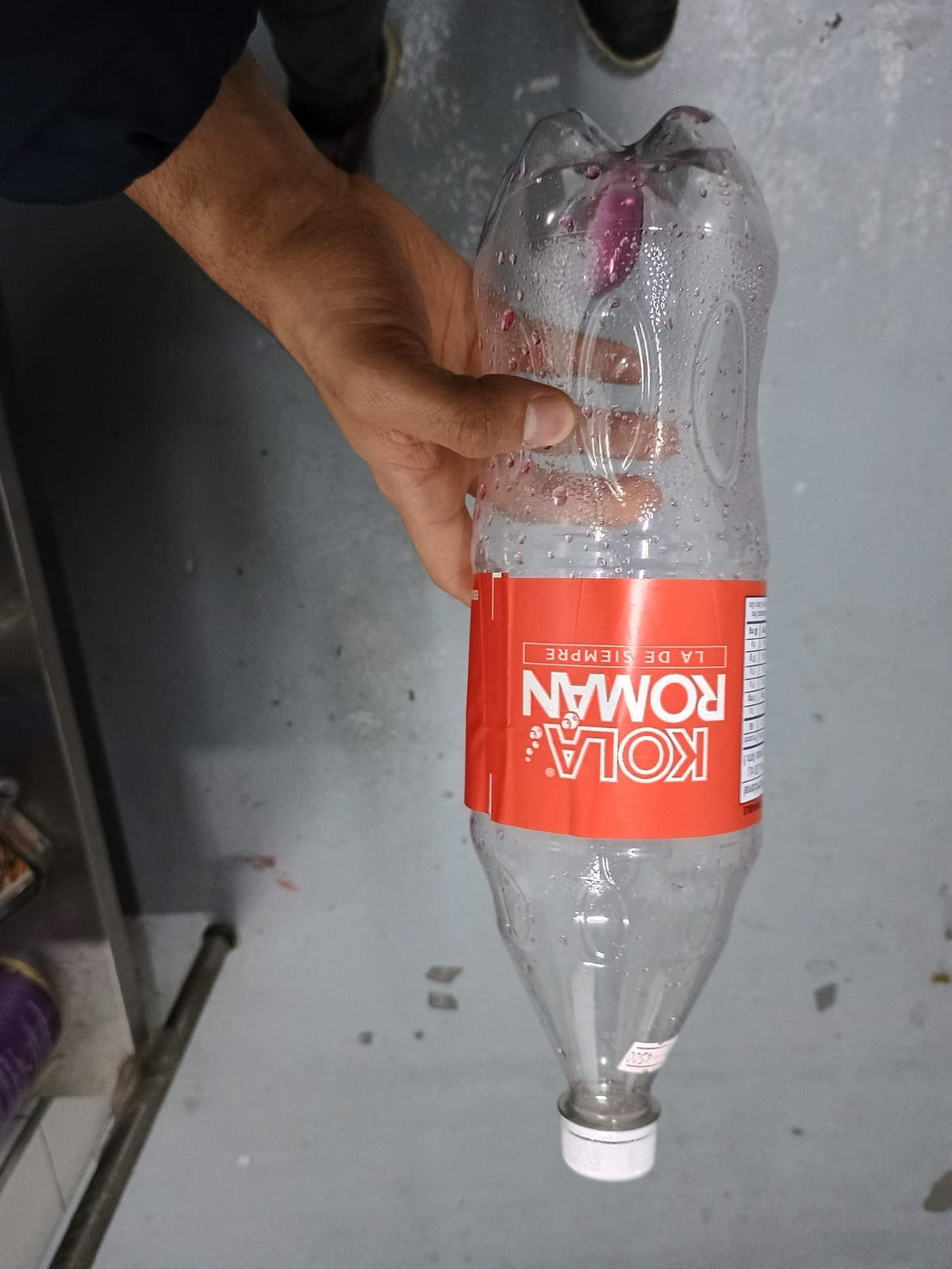Plastico: (455, 101, 782, 1182)
